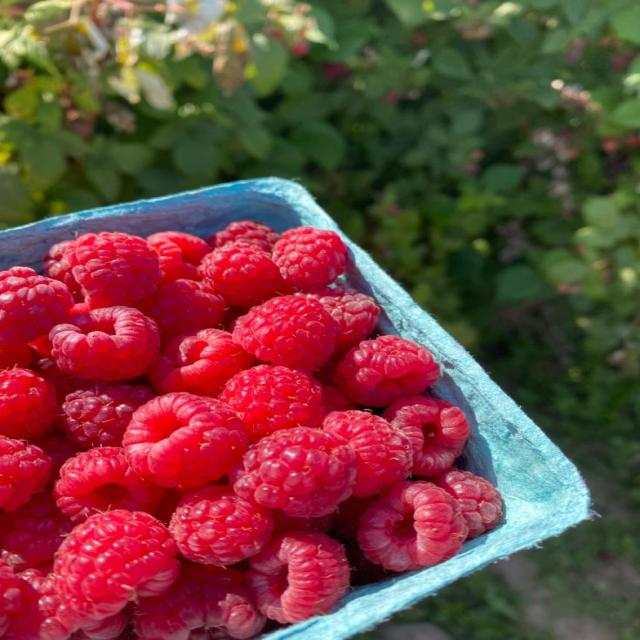raspberry: (54, 510, 179, 619), (123, 393, 248, 487), (232, 428, 357, 516), (134, 564, 265, 639), (358, 482, 467, 571), (247, 532, 349, 623), (3, 569, 127, 639), (54, 447, 164, 522), (169, 486, 273, 565), (50, 307, 159, 381), (234, 295, 339, 371), (220, 365, 325, 440), (323, 411, 412, 497), (334, 335, 439, 407), (63, 232, 160, 308), (149, 329, 253, 396), (383, 397, 469, 475), (57, 383, 154, 448), (3, 569, 86, 639), (0, 492, 73, 570), (0, 267, 73, 343), (199, 242, 282, 308), (140, 280, 226, 343), (434, 469, 503, 538), (307, 287, 379, 351), (273, 227, 346, 289), (0, 369, 58, 439), (0, 436, 51, 511), (147, 231, 211, 283), (208, 220, 279, 253), (34, 358, 86, 403), (44, 240, 82, 300), (34, 432, 80, 480), (345, 540, 392, 586), (334, 496, 378, 540), (0, 560, 24, 638), (74, 612, 128, 639), (272, 510, 335, 533), (154, 488, 183, 526), (313, 352, 343, 385), (322, 385, 355, 413), (0, 344, 33, 369), (28, 335, 52, 358), (67, 303, 90, 323)
